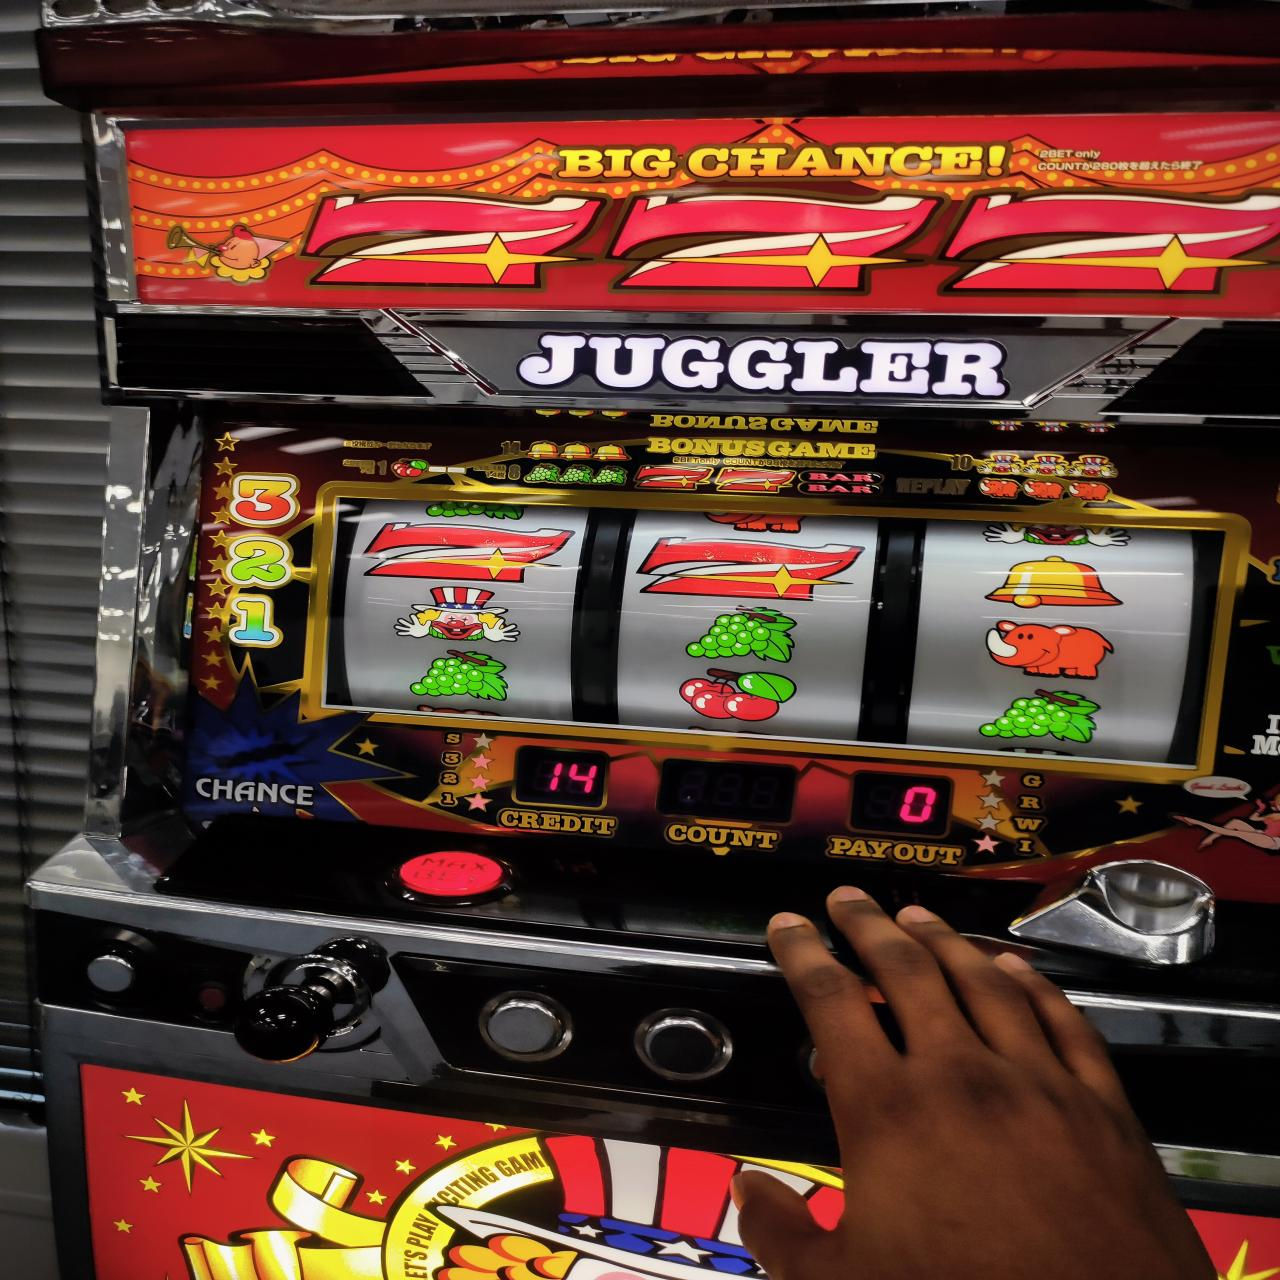7: (645, 531, 862, 604), (363, 520, 568, 591)
8: (982, 618, 1119, 678)
Display: (331, 489, 1223, 771)
bell: (981, 549, 1124, 611)
cherry: (673, 665, 798, 720)
clown: (387, 587, 520, 645)
grape: (972, 689, 1111, 747), (678, 607, 806, 663), (408, 648, 516, 701)
